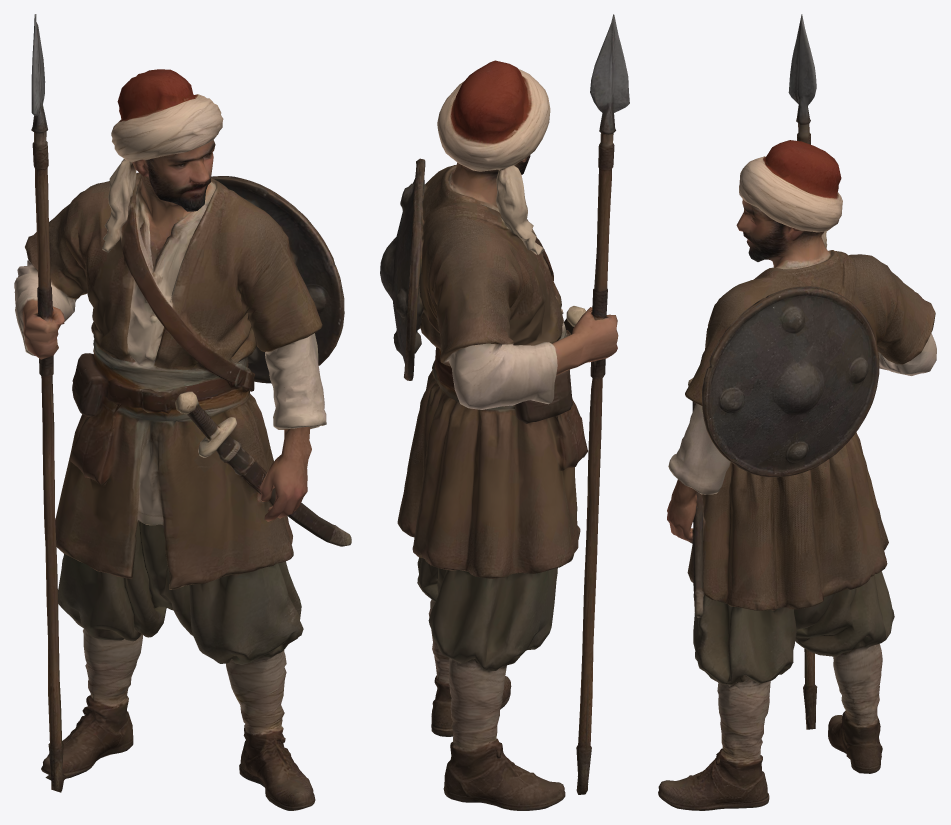
Rendered from azap-kara-piyadesi-1550-1600-tripo-v1.glb.
The picture shows the model from 3 angles, left to right: view 1: azimuth 30°, elevation 25°; view 2: azimuth 150°, elevation 25°; view 3: azimuth 270°, elevation 25°; orthographic projection. The views are drawn at different scales.
Parts seen in each view (by area): view 1: tripo_node_06d556ec-6a64-4fb7-b169-2252a9e159a9; view 2: tripo_node_06d556ec-6a64-4fb7-b169-2252a9e159a9; view 3: tripo_node_06d556ec-6a64-4fb7-b169-2252a9e159a9.
Boxes of the visible parts, x1,y1,x2,y2 form: tripo_node_06d556ec-6a64-4fb7-b169-2252a9e159a9: (14,14,351,810); tripo_node_06d556ec-6a64-4fb7-b169-2252a9e159a9: (380,14,629,810); tripo_node_06d556ec-6a64-4fb7-b169-2252a9e159a9: (658,14,936,810).
Bounding box in the file's own units: 0.3565 × 1 × 0.3592.
1 material, 1 textured.
